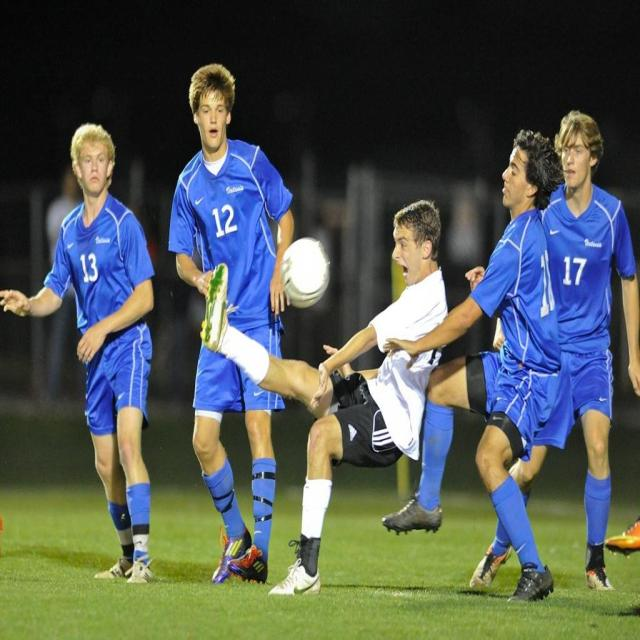Face: (195, 74, 233, 154), (76, 130, 111, 201), (500, 142, 531, 221), (560, 130, 595, 191), (397, 218, 424, 284)
